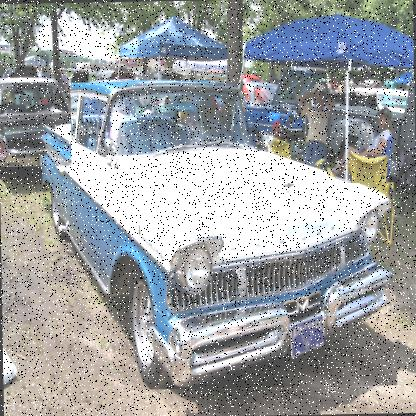Car: (40, 77, 397, 392), (325, 69, 415, 184), (0, 72, 73, 169), (245, 66, 306, 136)
